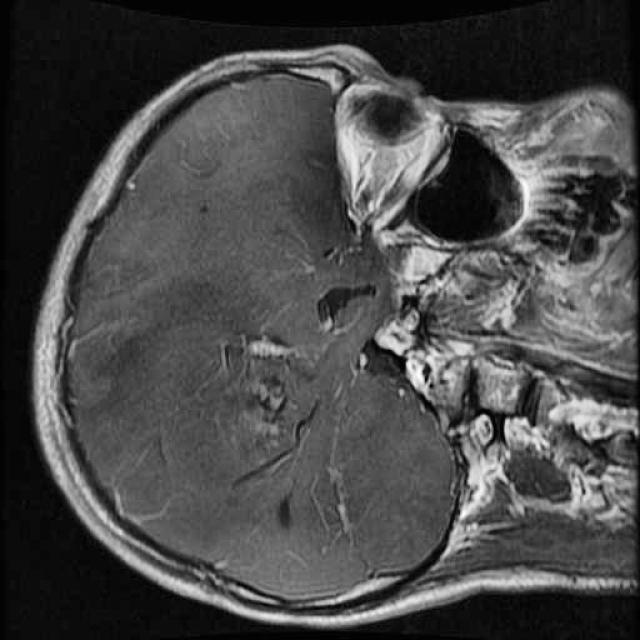Tumor: (194, 308, 337, 488)
